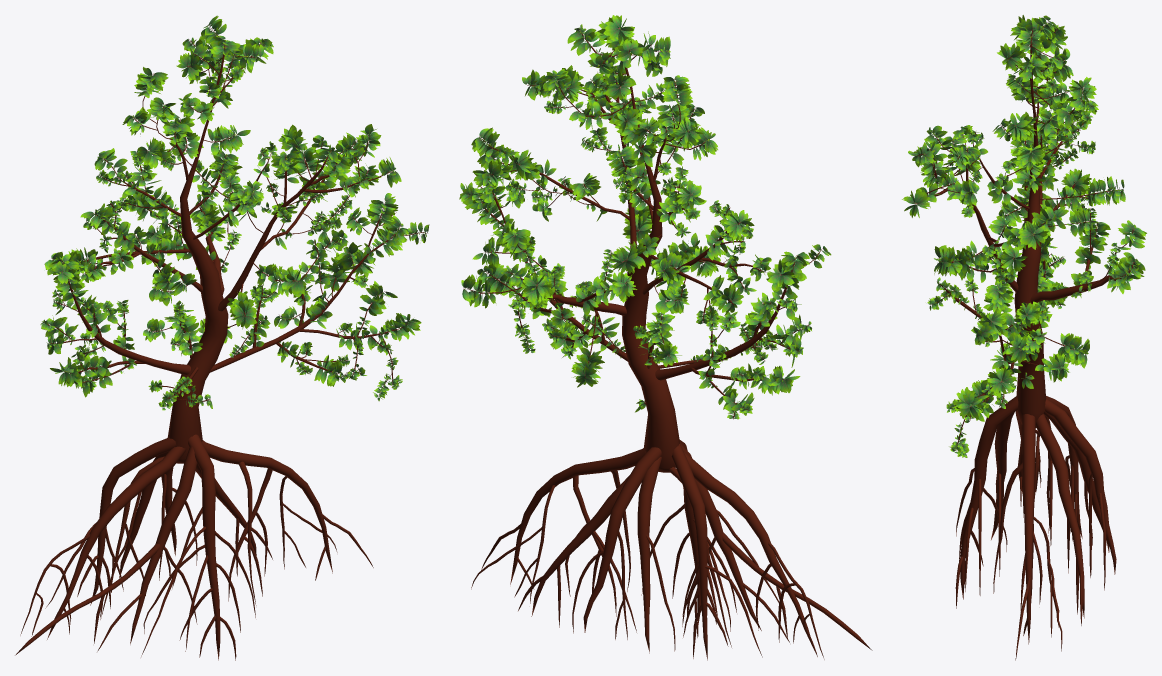
The model's file is Mangrove_Normal_01 1.fbx.
3 renders of one model, left to right at view 1: azimuth 30°, elevation 25°; view 2: azimuth 150°, elevation 25°; view 3: azimuth 270°, elevation 25°, orthographic. The views are drawn at different scales.
Visible parts, largest first — view 1: Leaves_Dream, Tree; view 2: Leaves_Dream, Tree; view 3: Leaves_Dream, Tree.
Boxes of the visible parts, box(x1,y1,x2,y2) form: Leaves_Dream: box(40, 15, 429, 410); Tree: box(15, 28, 427, 660); Leaves_Dream: box(459, 15, 831, 419); Tree: box(467, 30, 872, 660); Leaves_Dream: box(902, 15, 1146, 457); Tree: box(915, 21, 1134, 660).
Size of the model in its own units: 782 by 1121 by 412.
